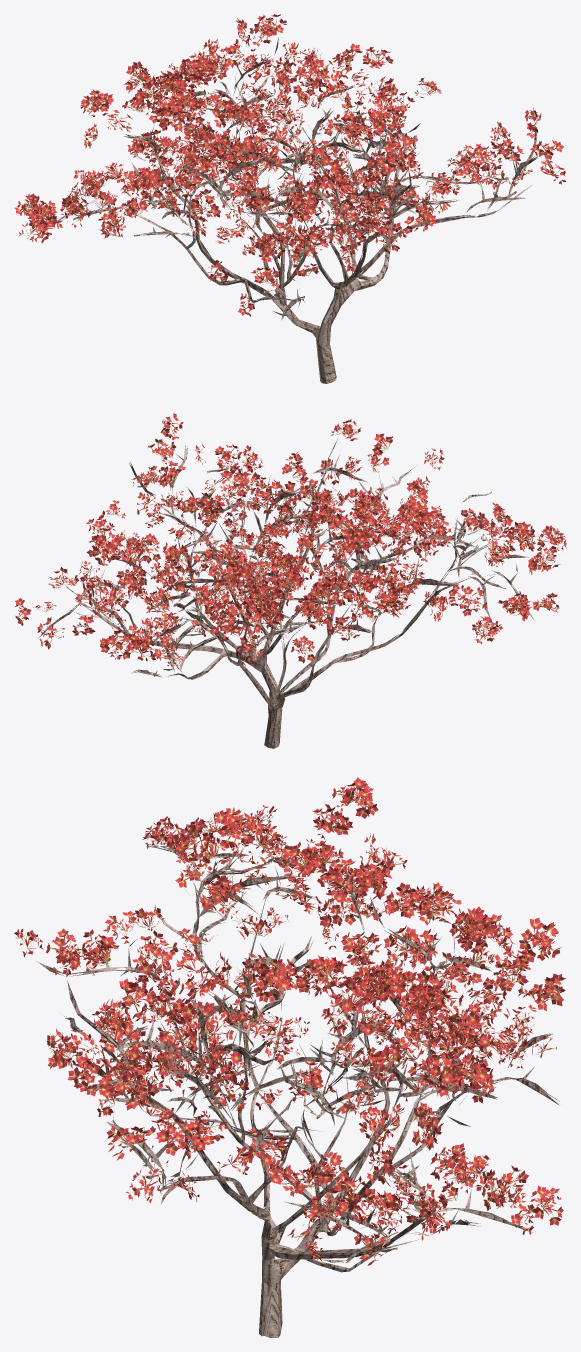
File: flowertree.FBX
3 renders of one model, top to bottom at view 1: azimuth 30°, elevation 25°; view 2: azimuth 150°, elevation 25°; view 3: azimuth 270°, elevation 25°, orthographic. The views are drawn at different scales.
Visible parts, largest first — view 1: objArch311, sub01, sub02, sub05, sub06; view 2: objArch311, sub01, sub02, sub06, sub05; view 3: objArch311, sub02, sub01, sub05, sub06.
Boxes of the visible parts, x1,y1,x2,y2 form: objArch311: (45,37,538,383); sub01: (14,14,392,262); sub02: (142,43,565,271); sub05: (134,46,423,316); sub06: (19,52,441,243); objArch311: (38,439,534,748); sub01: (126,420,566,644); sub02: (15,413,440,663); sub06: (72,494,562,648); sub05: (100,456,512,668); objArch311: (35,819,560,1337); sub02: (45,928,563,1265); sub01: (14,782,558,1089); sub05: (99,817,565,1240); sub06: (142,777,561,1204).
Size of the model in its own units: 10076 by 6611 by 7157.
2 materials, 2 textured.
